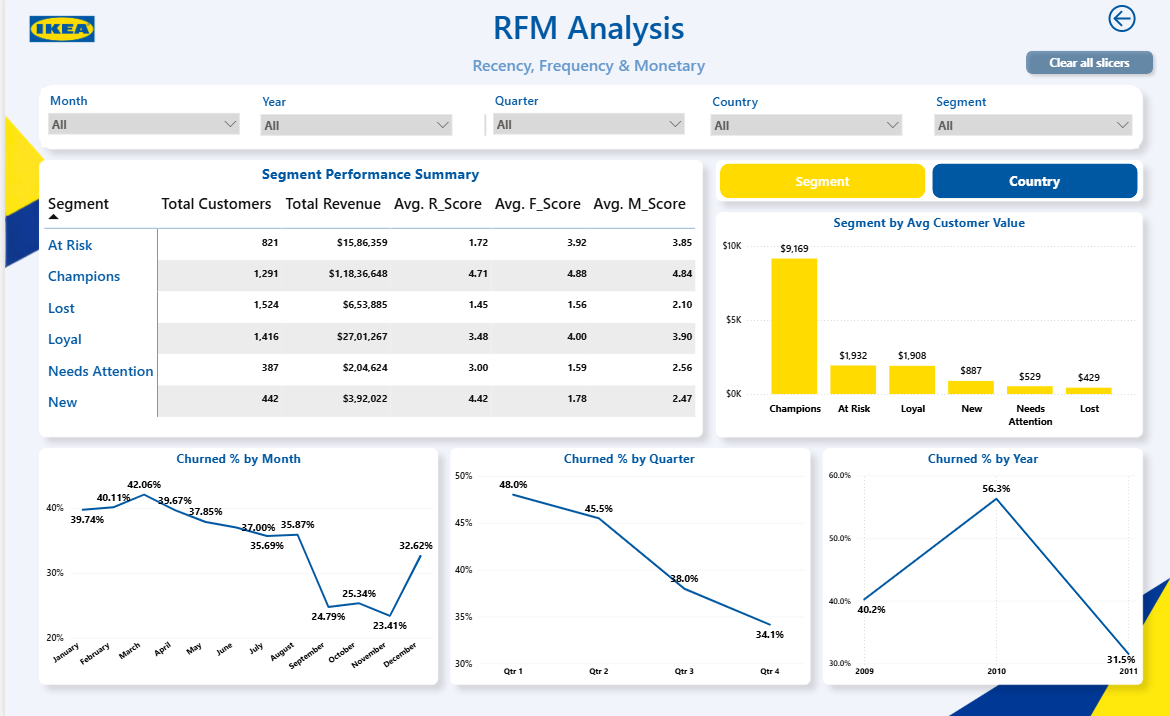

Layout of this report page (visuals, bound fields, positions):
{"tool":"powerbi","page":{"name":"RFM Analysis","canvas":[1750,1100],"ordinal":2},"visuals":[{"type":"slicer","fields":{"Values":["EcommerceData.InvoiceDate.Variation.Date Hierarchy.Month"]},"box":[54.4,146.2,307.4,88.1],"z":0},{"type":"pivotTable","title":"Country Performance Summary","fields":{"Rows":["EcommerceData.Country"],"Values":["EcommerceData.Total Customers","EcommerceData.Total Revenue","Avg(EcommerceData.R_Score)","Avg(EcommerceData.F_Score)","Avg(EcommerceData.M_Score)"]},"box":[54.8,259.5,987.9,404.9],"z":0,"group":"g2"},{"type":"lineChart","fields":{"Category":["EcommerceData.InvoiceDate.Variation.Date Hierarchy.Month"],"Y":["EcommerceData.Churned %"]},"box":[54.4,688,592.4,350.5],"z":0,"group":"g1"},{"type":"slicer","fields":{"Values":["EcommerceData.InvoiceDate.Variation.Date Hierarchy.Year"]},"box":[373,148.1,307.4,88.1],"z":1000},{"type":"columnChart","title":"Top 5 Countries by Avg Customer Value","fields":{"Category":["EcommerceData.Country"],"Y":["EcommerceData.Avg Customer Value"]},"box":[1064.6,333.6,641.9,333.8],"z":1000,"group":"g2"},{"type":"lineChart","fields":{"Category":["EcommerceData.InvoiceDate.Variation.Date Hierarchy.Quarter"],"Y":["EcommerceData.Churned %"]},"box":[669.3,688,534.3,350.5],"z":1000,"group":"g1"},{"type":"slicer","fields":{"Values":["EcommerceData.InvoiceDate.Variation.Date Hierarchy.Month"]},"box":[708.6,148.1,307.4,88.1],"z":2000},{"type":"lineChart","fields":{"Category":["EcommerceData.InvoiceDate.Variation.Date Hierarchy.Year"],"Y":["EcommerceData.Churned %"]},"box":[1229.8,688,474.3,350.5],"z":2000,"group":"g1"},{"type":"slicer","fields":{"Values":["EcommerceData.InvoiceDate.Variation.Date Hierarchy.Quarter"]},"box":[721.7,146.2,307.4,88.1],"z":3000},{"type":"slicer","fields":{"Values":["EcommerceData.Country"]},"box":[1047.9,148.1,307.4,88.1],"z":4000},{"type":"slicer","fields":{"Values":["EcommerceData.Segment"]},"box":[1383.4,148.1,316.8,88.1],"z":5000},{"type":"group","id":"g1","title":"Revenue","box":[54.4,688,1649.6,350.5],"z":7000},{"type":"image","box":[0,15,170.6,84.4],"z":8000},{"type":"textbox","box":[578.8,15,592.4,103.1],"z":9000},{"type":"textbox","box":[578.8,90,592.4,58.1],"z":10000},{"type":"actionButton","box":[1617.8,15,114.3,52.5],"z":11000},{"type":"actionButton","box":[1522.9,80,208.6,52.9],"z":12000},{"type":"bookmarkNavigator","box":[1072.3,258.7,628,52.5],"z":13000},{"type":"group","id":"g2","title":"Country","box":[54.8,259.5,1651.7,407.9],"z":15000}]}

Visuals, with their boxes in screenshot pixels (x1, y1, x2, y2), scaled from the page's 1750x1100 canvas onto the 1170x716 screenshot:
slicer - EcommerceData.InvoiceDate.Variation.Date Hierarchy.Month: (36,95,242,153)
"Country Performance Summary" pivotTable: (37,169,697,432)
lineChart - EcommerceData.InvoiceDate.Variation.Date Hierarchy.Month x EcommerceData.Churned %: (36,448,432,676)
slicer - EcommerceData.InvoiceDate.Variation.Date Hierarchy.Year: (249,96,455,154)
"Top 5 Countries by Avg Customer Value" columnChart: (712,217,1141,434)
lineChart - EcommerceData.InvoiceDate.Variation.Date Hierarchy.Quarter x EcommerceData.Churned %: (447,448,805,676)
slicer - EcommerceData.InvoiceDate.Variation.Date Hierarchy.Month: (474,96,679,154)
lineChart - EcommerceData.InvoiceDate.Variation.Date Hierarchy.Year x EcommerceData.Churned %: (822,448,1139,676)
slicer - EcommerceData.InvoiceDate.Variation.Date Hierarchy.Quarter: (483,95,688,153)
slicer - EcommerceData.Country: (701,96,906,154)
slicer - EcommerceData.Segment: (925,96,1137,154)
"Revenue" group: (36,448,1139,676)
image: (0,10,114,65)
textbox: (387,10,783,77)
textbox: (387,59,783,96)
actionButton: (1082,10,1158,44)
actionButton: (1018,52,1158,87)
bookmarkNavigator: (717,168,1137,203)
"Country" group: (37,169,1141,434)
